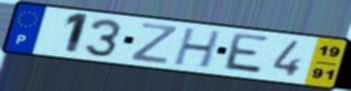1: (61, 12, 90, 58)
3: (83, 17, 124, 58)
4: (270, 40, 304, 79)
E: (219, 31, 272, 77)
H: (170, 27, 224, 71)
Z: (127, 21, 181, 65)
